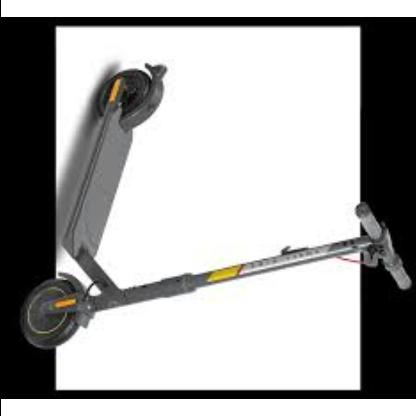bike: (19, 59, 414, 351)
